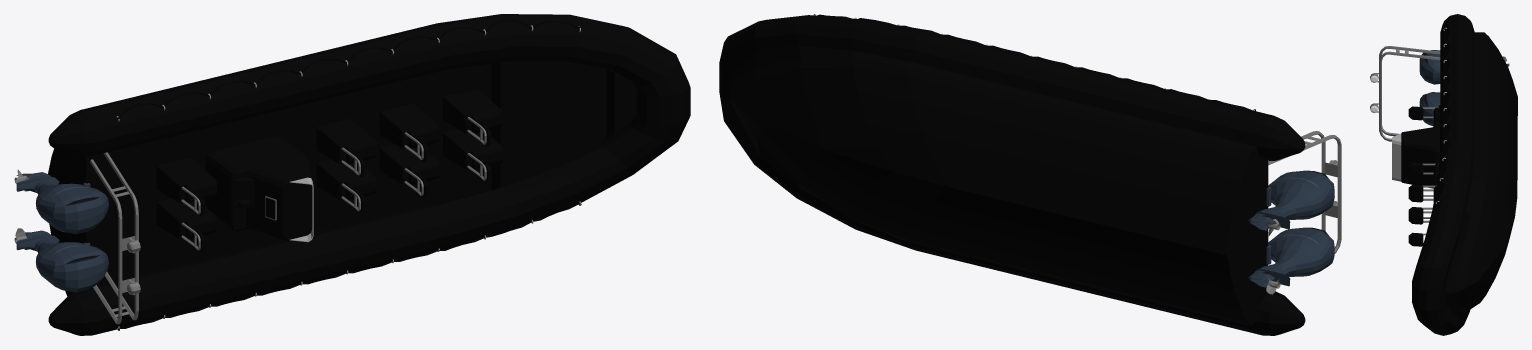
The model's file is MilitaryBoat.glb.
3 renders of one model, left to right at view 1: azimuth 30°, elevation 25°; view 2: azimuth 150°, elevation 25°; view 3: azimuth 270°, elevation 25°, orthographic. The views are drawn at different scales.
Parts seen in each view (by area): view 1: MilitaryBoat; view 2: MilitaryBoat; view 3: MilitaryBoat.
Part boxes in pixels (x1,y1,x2,y2): MilitaryBoat: (14,14,690,335); MilitaryBoat: (719,14,1341,335); MilitaryBoat: (1370,14,1517,335).
Bounding box in the file's own units: 11.07 × 3.72 × 3.11.
Materials: 1 (1 with a texture image).
